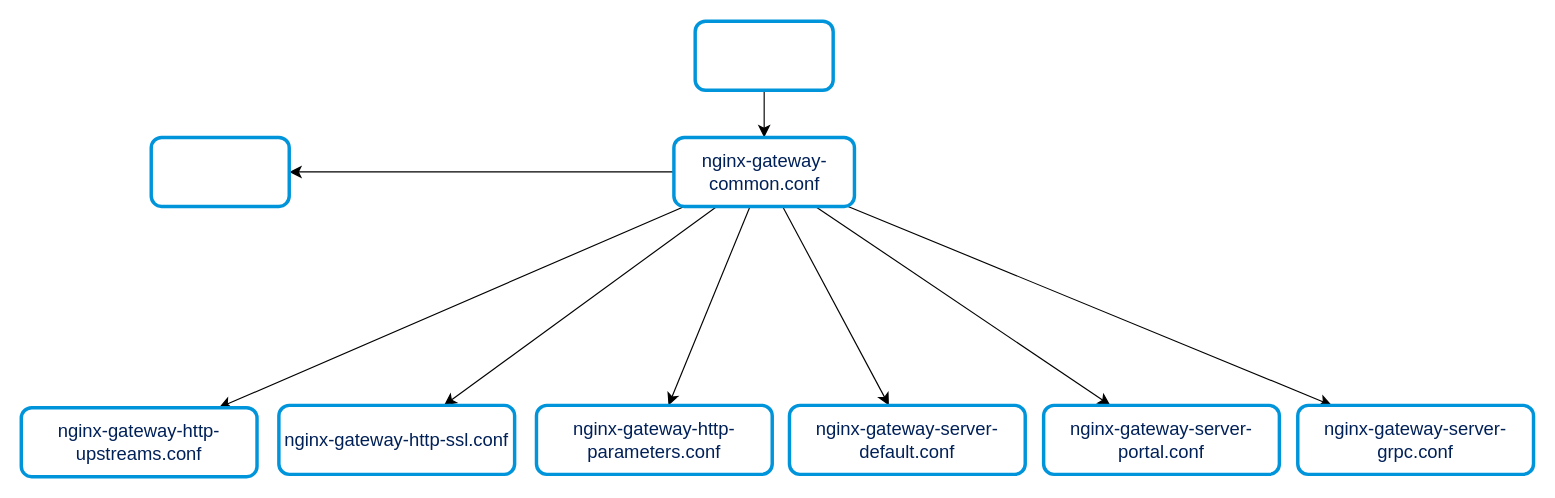
Image size: 1555x498. Some labels were removed from this diagram. Each missing label, with the centre of its shape:
"mime.types" goes at point 219,171.
"nginx.conf" goes at point 763,55.
